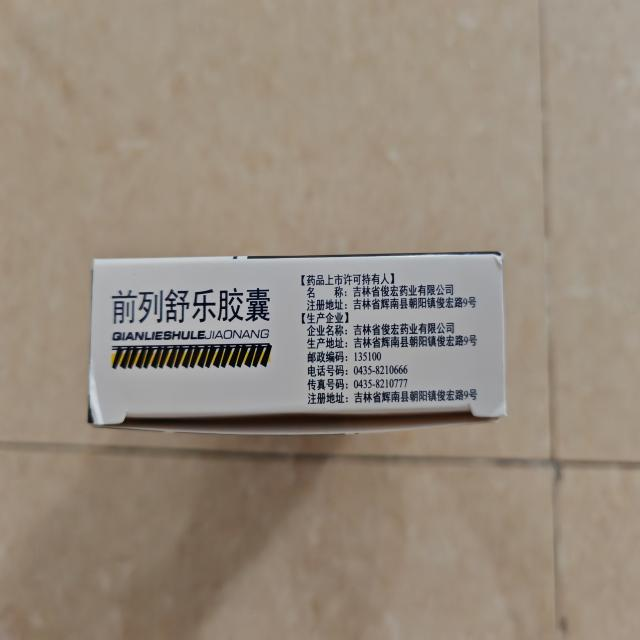box: (81, 245, 514, 435)
